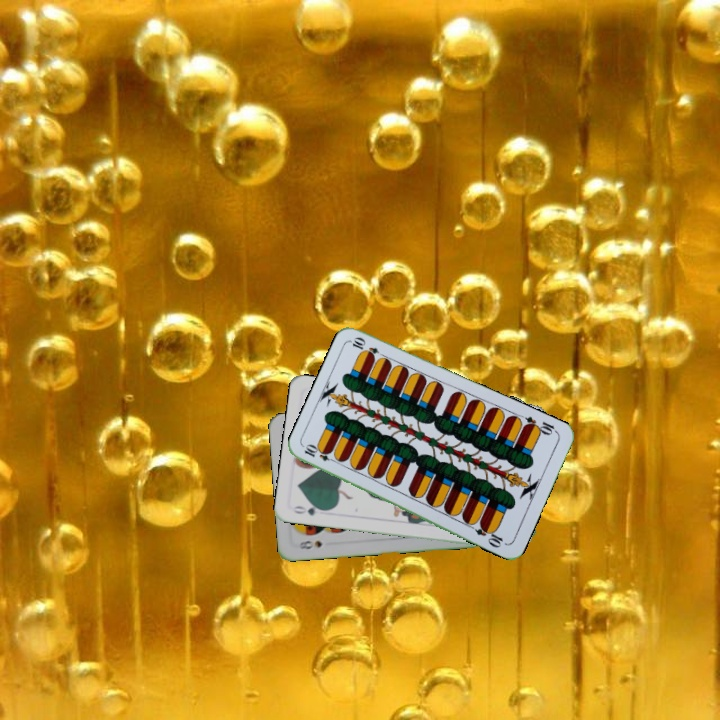E10: (520, 412, 560, 438), (300, 442, 340, 465)
GO: (289, 501, 330, 518)
S8: (295, 536, 325, 552)
